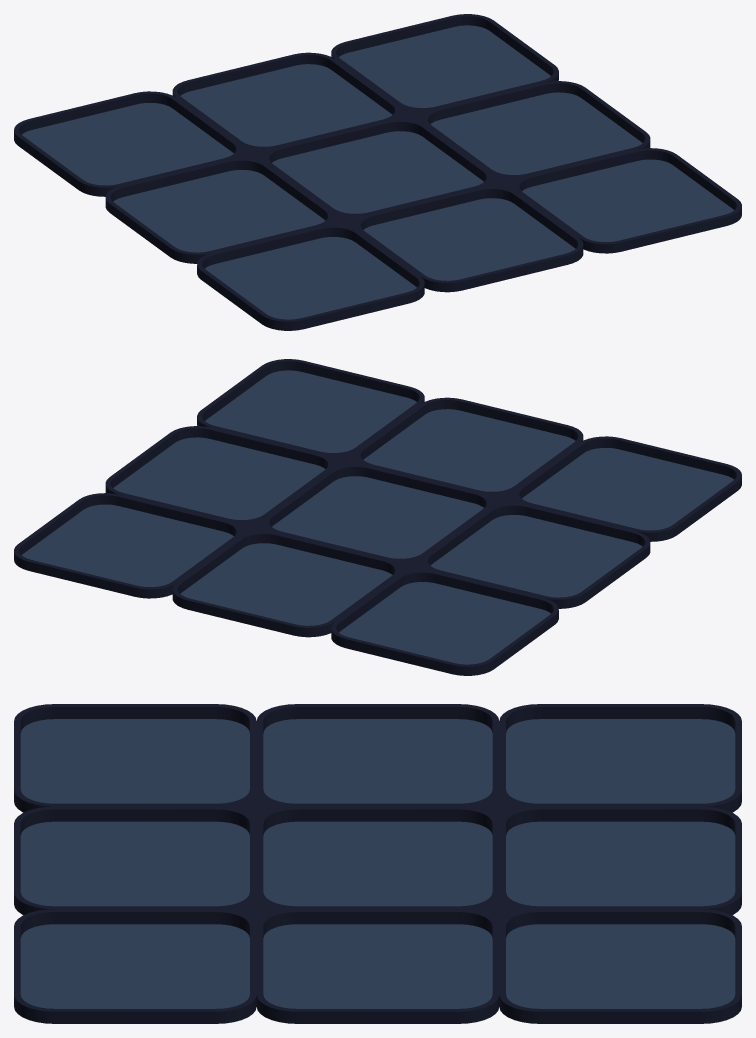
The picture shows the model from 3 angles, top to bottom: view 1: azimuth 30°, elevation 25°; view 2: azimuth 150°, elevation 25°; view 3: azimuth 270°, elevation 25°; orthographic projection. The views are drawn at different scales.
Parts seen in each view (by area): view 1: Plane.003, Plane.004, Plane.005, Plane.010, Plane.009, Plane.007, Plane.006, Plane.008, Plane.001, Plane.011; view 2: Plane.009, Plane.008, Plane.007, Plane.010, Plane.003, Plane.005, Plane.006, Plane.004, Plane.001, Plane.011; view 3: Plane.006, Plane.005, Plane.007, Plane.004, Plane.008, Plane.003, Plane.009, Plane.001, Plane.010, Plane.011.
Part boxes in pixels (x1,y1,x2,y2): Plane.003: [197, 225, 424, 330]; Plane.004: [355, 186, 583, 292]; Plane.005: [514, 148, 741, 253]; Plane.010: [105, 158, 333, 263]; Plane.009: [14, 91, 241, 196]; Plane.007: [331, 14, 558, 110]; Plane.006: [422, 81, 650, 177]; Plane.008: [172, 52, 400, 148]; Plane.001: [264, 119, 491, 215]; Plane.011: [228, 104, 527, 231]; Plane.009: [331, 570, 558, 675]; Plane.008: [172, 531, 400, 637]; Plane.007: [14, 493, 241, 598]; Plane.010: [422, 503, 650, 608]; Plane.003: [514, 436, 741, 541]; Plane.005: [197, 359, 424, 455]; Plane.006: [105, 426, 333, 522]; Plane.004: [355, 397, 583, 493]; Plane.001: [264, 464, 491, 560]; Plane.011: [228, 449, 527, 576]; Plane.006: [256, 909, 499, 1023]; Plane.005: [14, 909, 256, 1023]; Plane.007: [499, 909, 741, 1023]; Plane.004: [14, 806, 256, 915]; Plane.008: [499, 806, 741, 915]; Plane.003: [14, 704, 256, 812]; Plane.009: [499, 704, 741, 812]; Plane.001: [256, 806, 499, 909]; Plane.010: [256, 704, 499, 806]; Plane.011: [216, 790, 539, 925].
Bounding box in the file's own units: 2.7 × 0.05 × 2.7.
